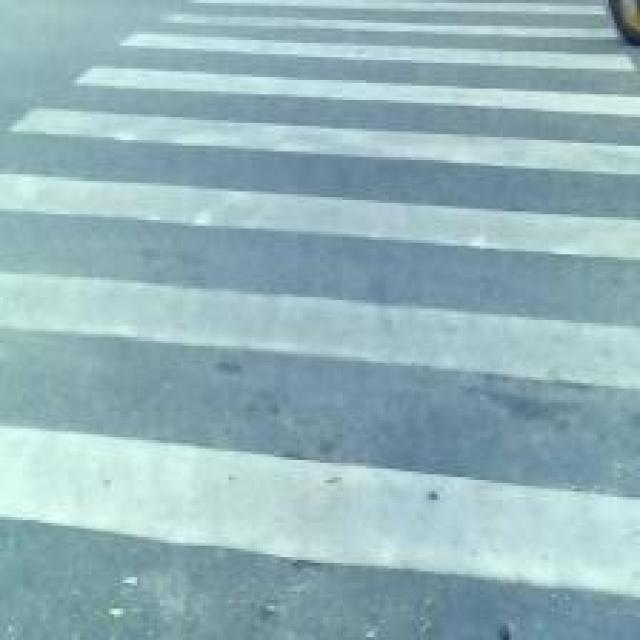walk-crossing: (157, 20, 580, 571)
